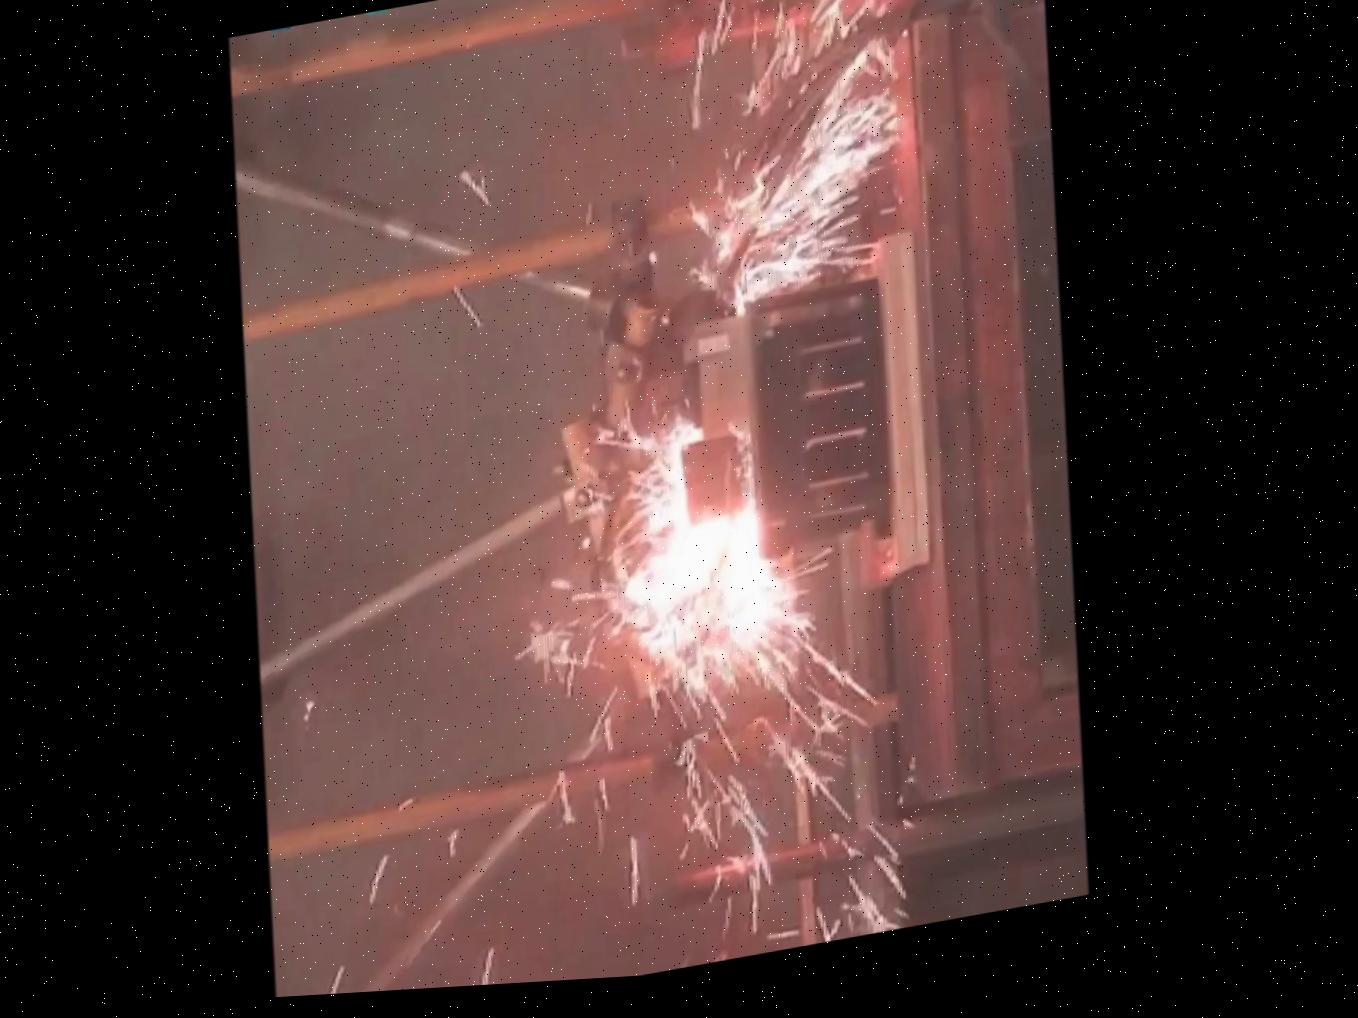fire: (439, 1, 1086, 946)
